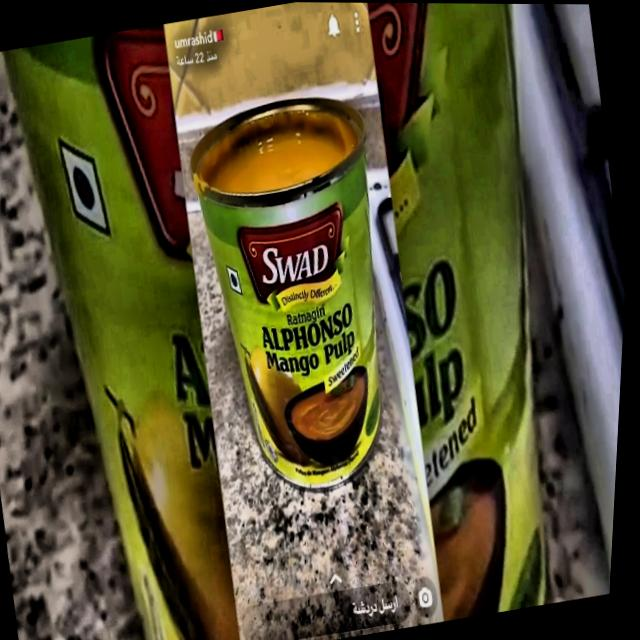Cans: (169, 91, 444, 504)
